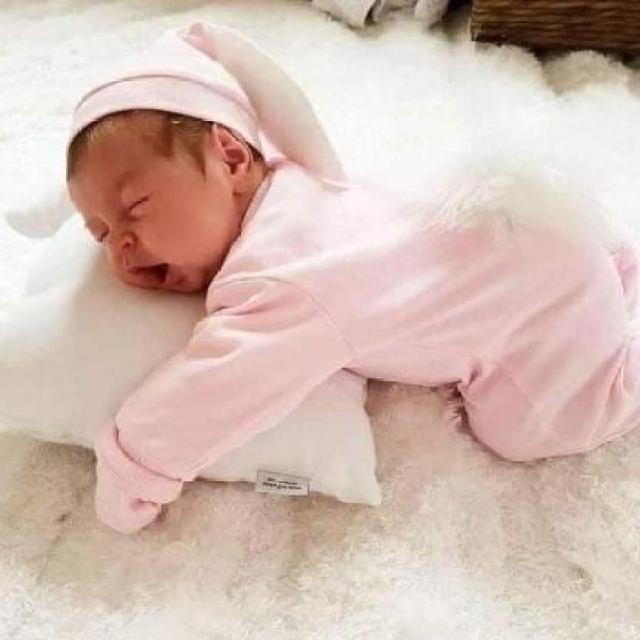baby: (63, 18, 632, 536)
